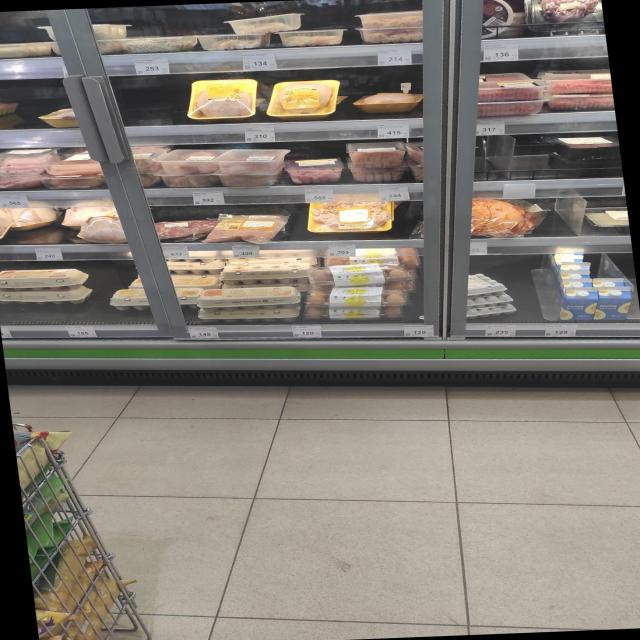organic waste: (180, 74, 264, 122), (260, 73, 344, 121), (301, 198, 399, 238), (466, 195, 549, 239), (521, 0, 605, 36), (206, 211, 290, 245), (196, 286, 301, 312), (348, 86, 428, 118), (468, 74, 550, 105), (211, 144, 292, 175), (0, 266, 94, 292), (225, 10, 307, 38), (341, 138, 411, 170), (220, 262, 312, 286), (41, 149, 112, 180), (152, 145, 222, 176), (279, 153, 349, 184), (542, 68, 612, 99), (548, 131, 620, 161), (277, 25, 351, 50), (354, 22, 428, 47), (0, 145, 59, 176), (194, 28, 268, 52), (352, 6, 426, 30), (122, 31, 196, 55), (581, 202, 630, 237), (76, 214, 125, 244), (594, 286, 632, 322), (560, 286, 598, 321), (0, 37, 38, 62), (0, 201, 16, 245)
